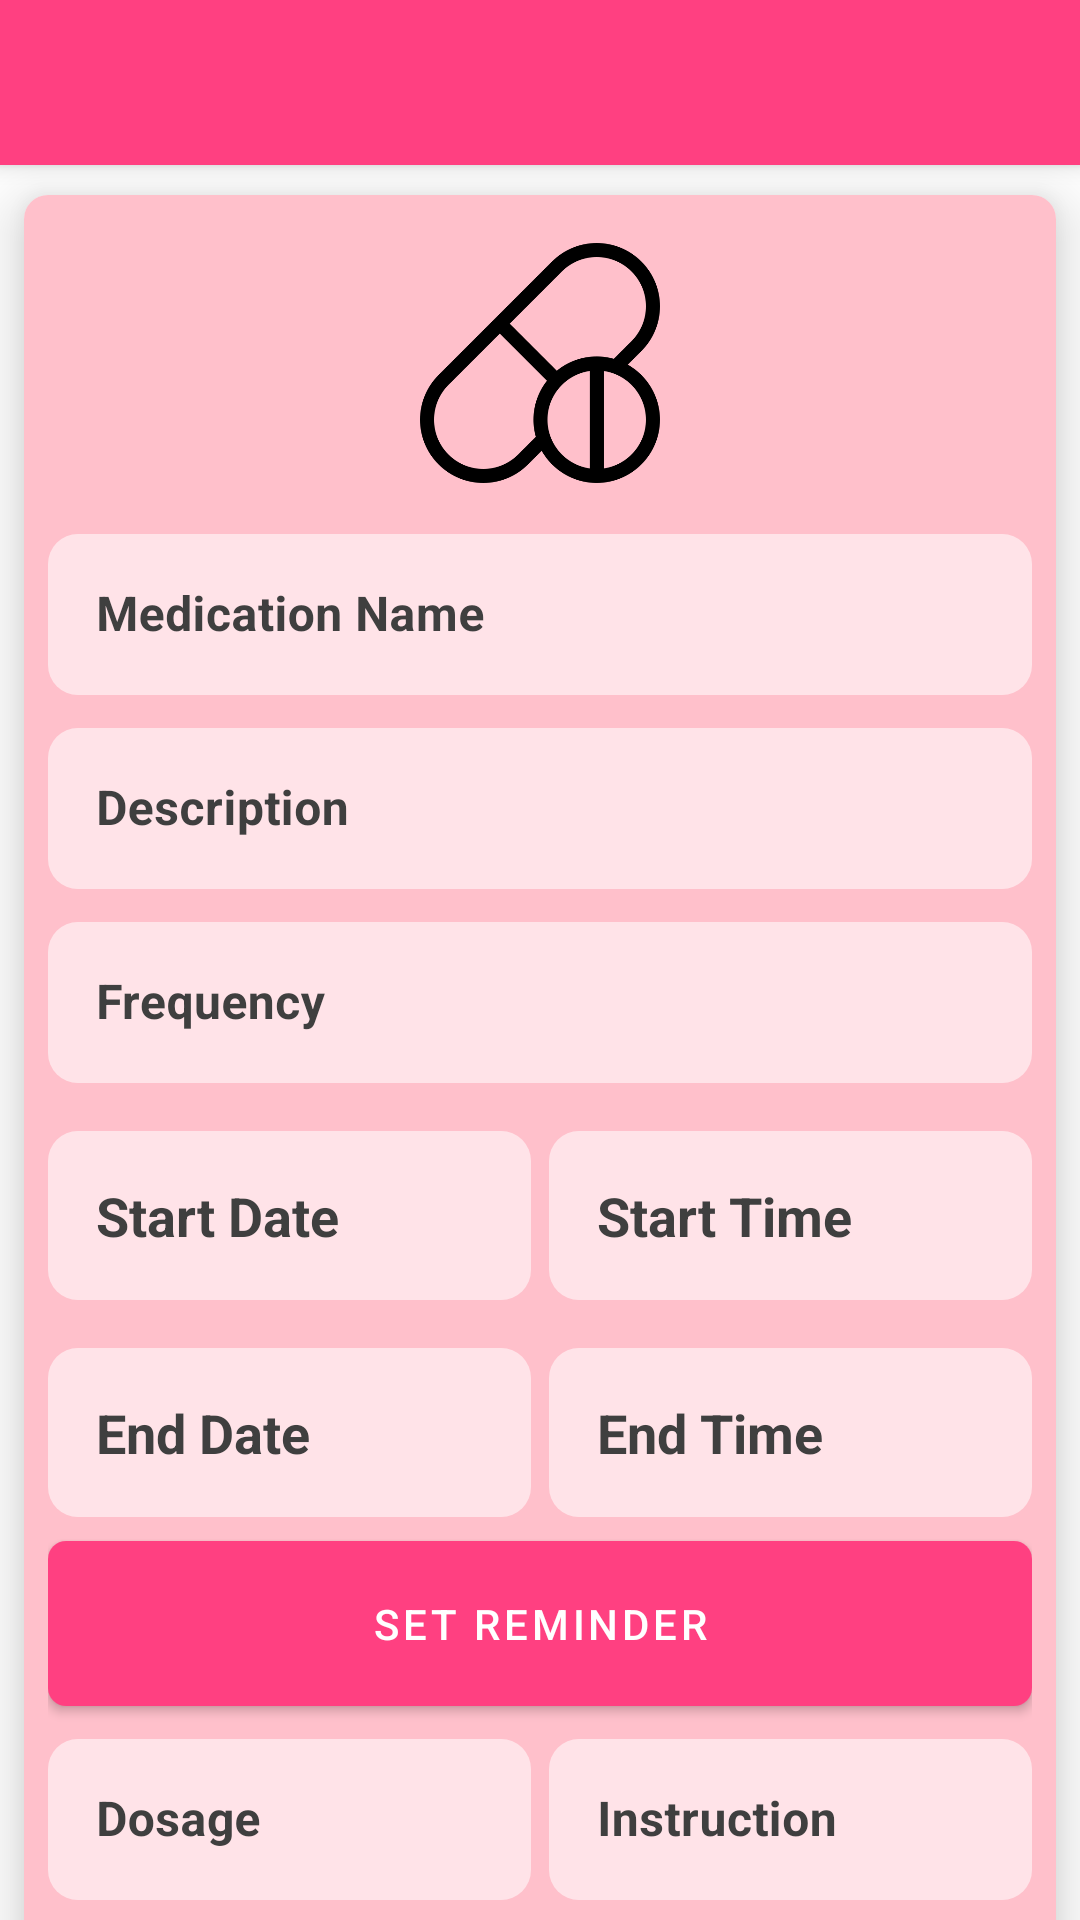

Icons on this 1080×1920 Android screen, each with the point to tap as (x=x, y=y):
drugs: (x=540, y=363)
